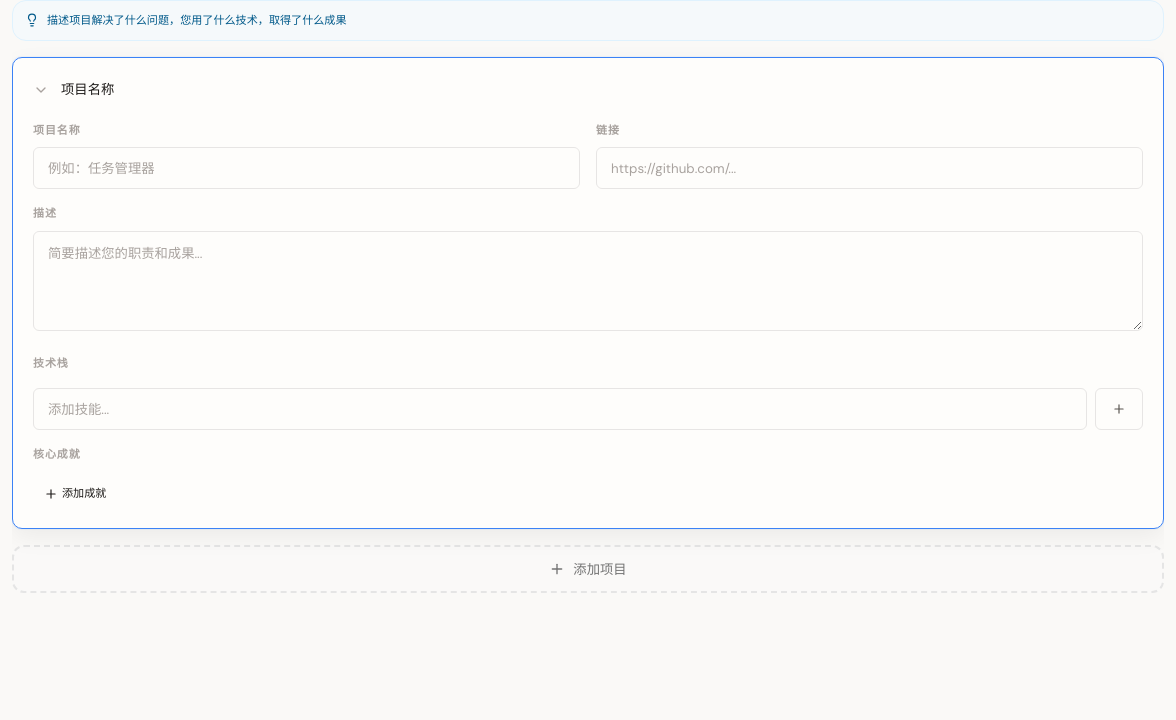
Test: ProjectsSection › allows editing project name
This screenshot has width=1176, height=720.
In the field with placeholder "例如：任务管理器": (306, 168) top-left (33, 147), bottom-right (580, 189), type "CLI Tool"
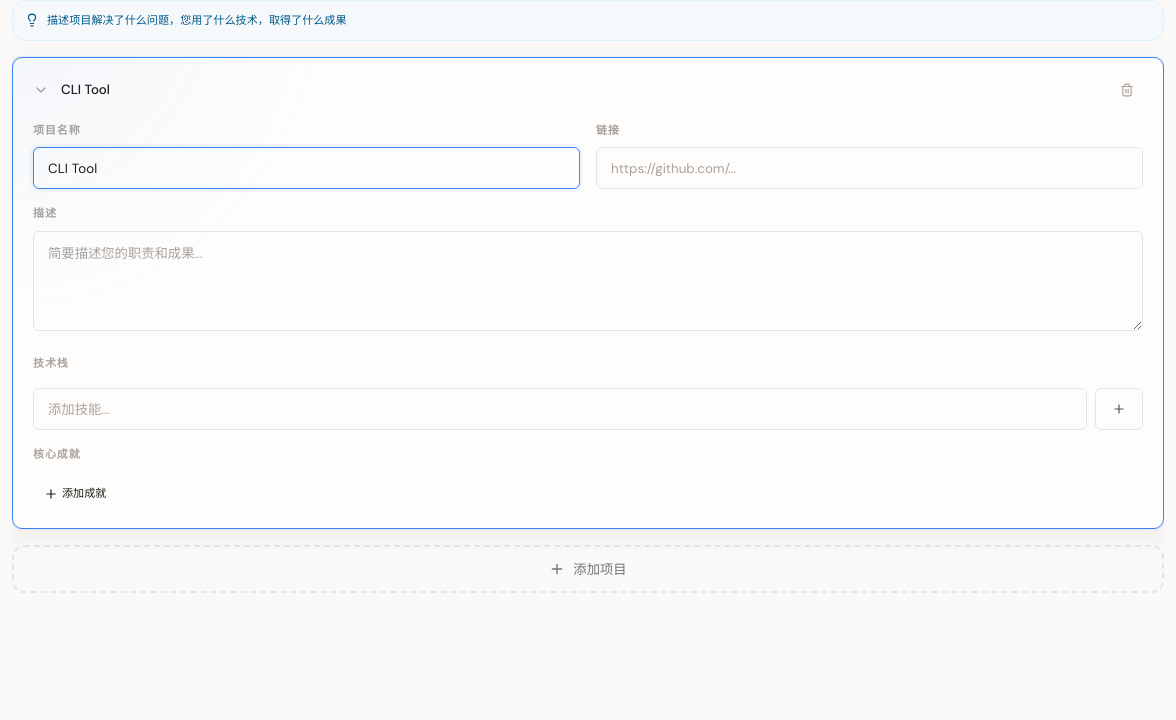
Now the text "CLI Tool" is shown, box top-left (61, 80), bottom-right (110, 99)
